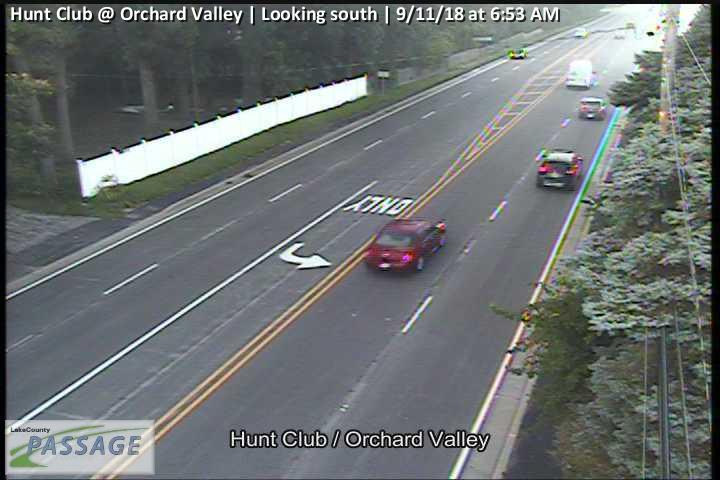SUV: (535, 150, 584, 189), (578, 97, 608, 120)
Sedan: (366, 217, 447, 272), (565, 72, 596, 89), (507, 46, 528, 59)
